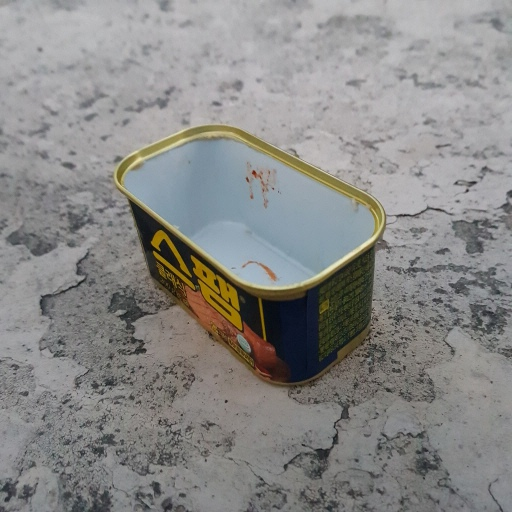Metal_2: (111, 118, 388, 389)
